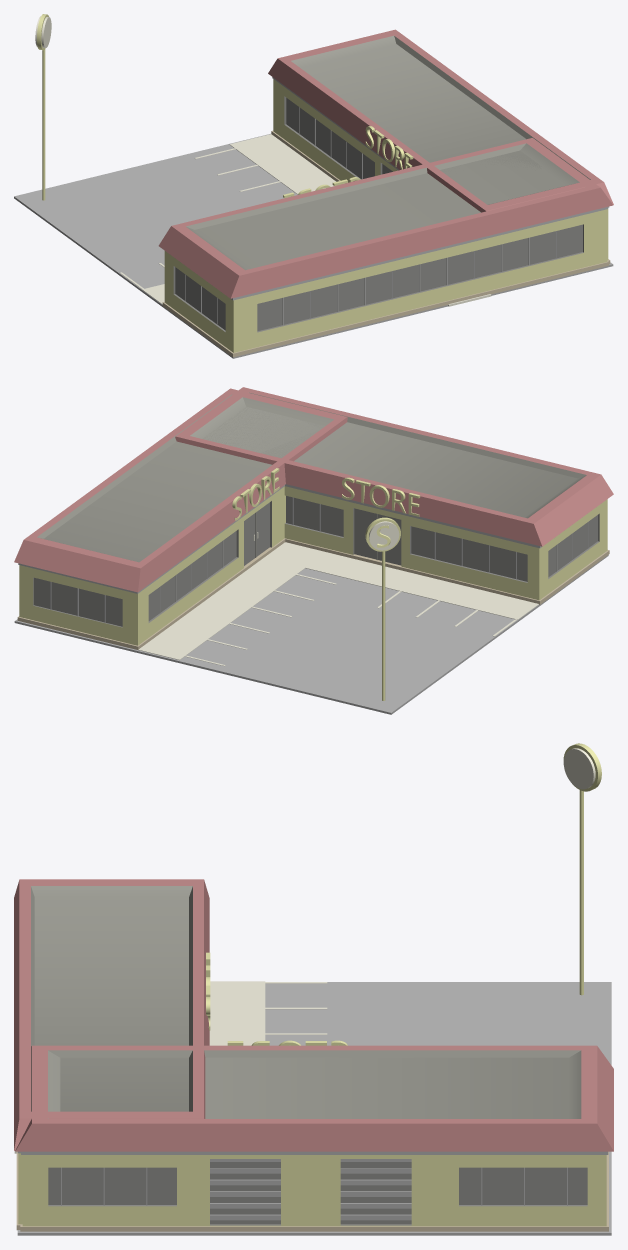
Rendered from house11.fbx.
The picture shows the model from 3 angles, top to bottom: view 1: azimuth 30°, elevation 25°; view 2: azimuth 150°, elevation 25°; view 3: azimuth 270°, elevation 25°; orthographic projection. The views are drawn at different scales.
Visible parts, largest first — view 1: Cloner_5; view 2: Cloner_5; view 3: Cloner_5.
Boxes of the visible parts, x1,y1,x2,y2 form: Cloner_5: [14, 14, 613, 358]; Cloner_5: [14, 387, 613, 714]; Cloner_5: [14, 743, 613, 1235].
Bounding box in the file's own units: 2728 × 1287 × 2727.
